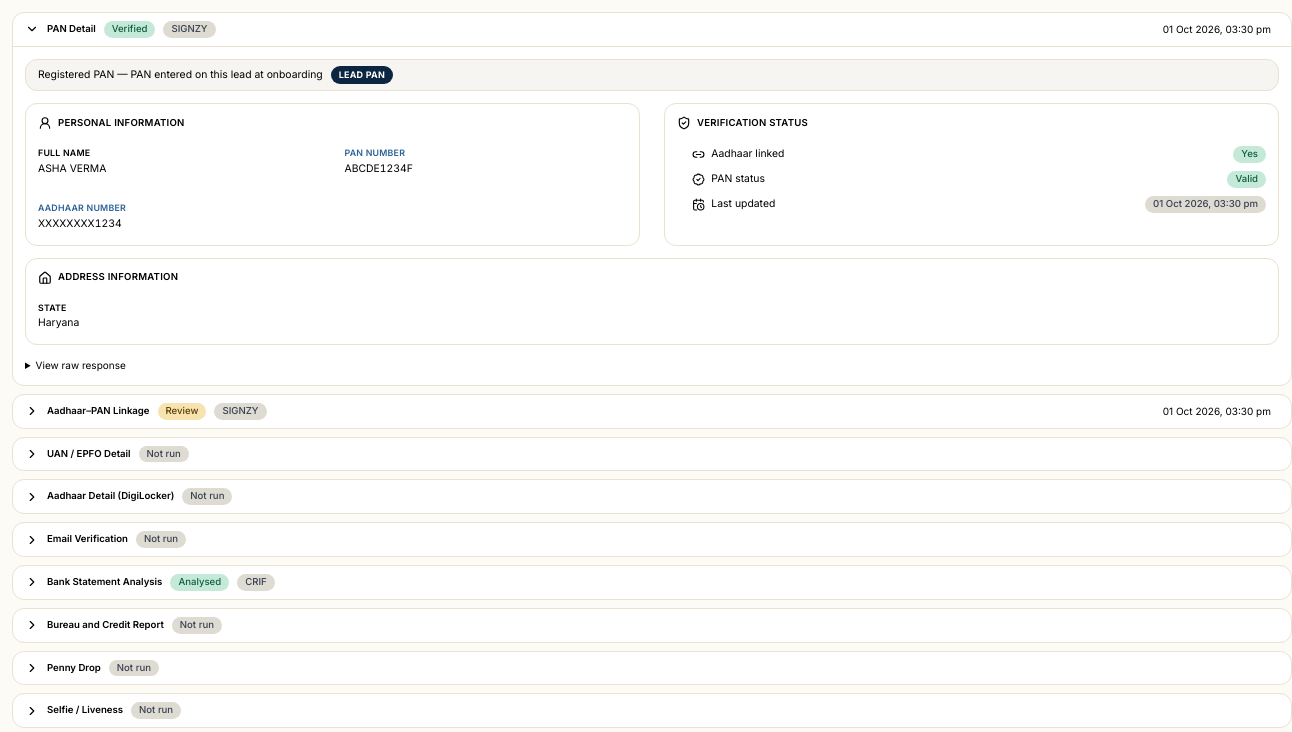
Test: Third-party tab › marks providers without a result as Not run
Expected: the text "Personal Information" is shown, [58, 117, 185, 130]
Click the text "Penny Drop" at (74, 668), box [47, 662, 101, 674]
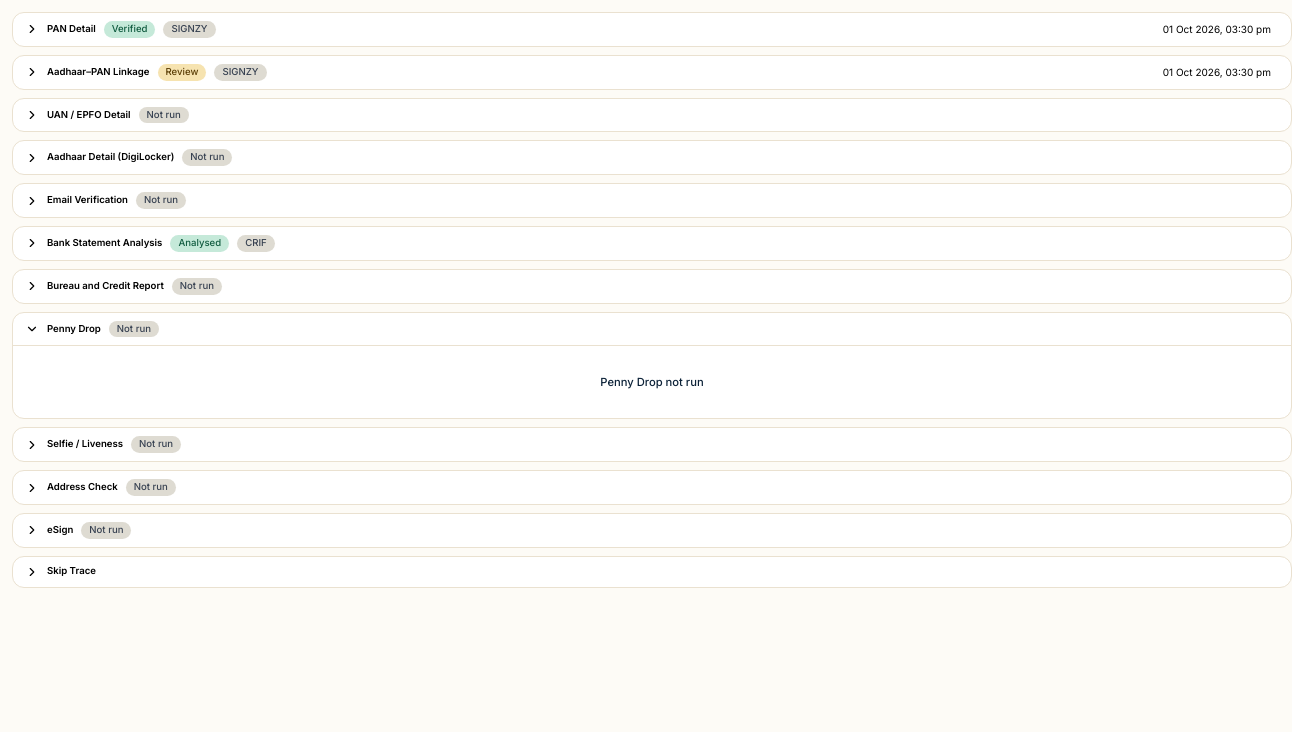
Expected: the text "Penny Drop not run" is shown, [600, 375, 704, 389]
